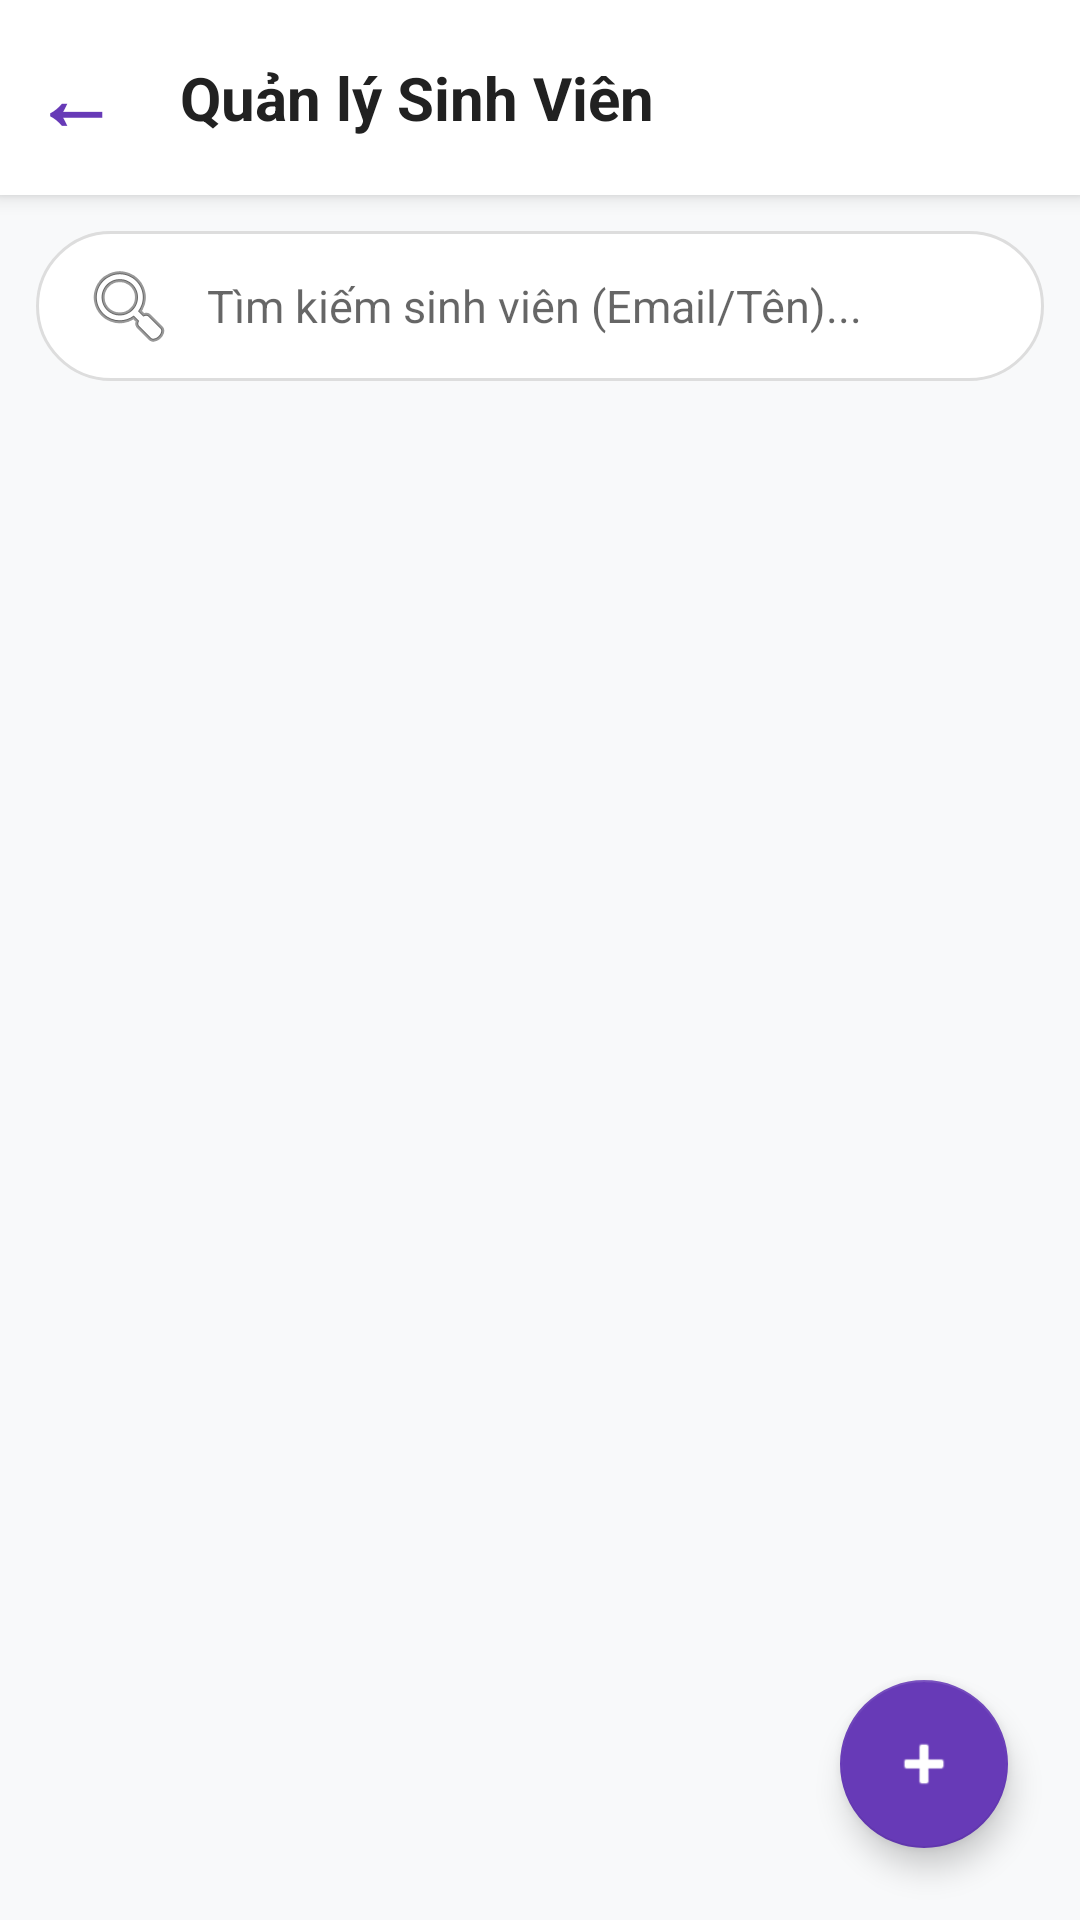

Point at icon controls on the screen. Image size 1080×1920, points as (x,y).
Thêm sinh viên mới: (924,1764)
